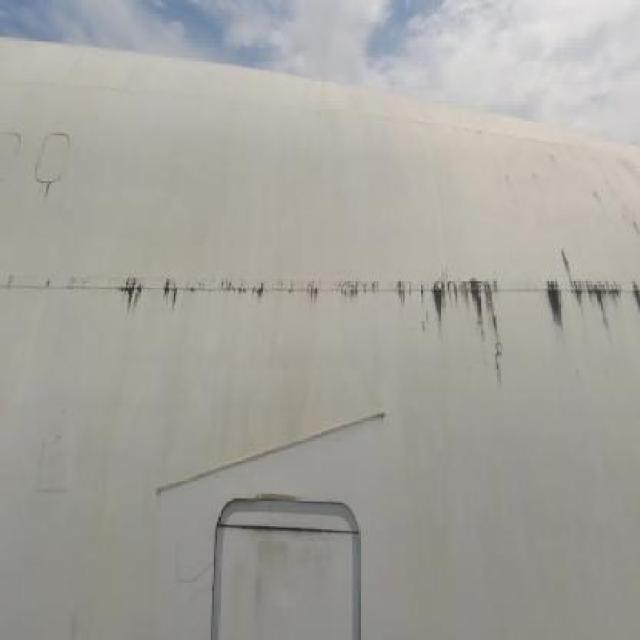Rust: (100, 249, 640, 383), (546, 150, 640, 268), (40, 182, 62, 208)
Scartch: (248, 528, 348, 610)
